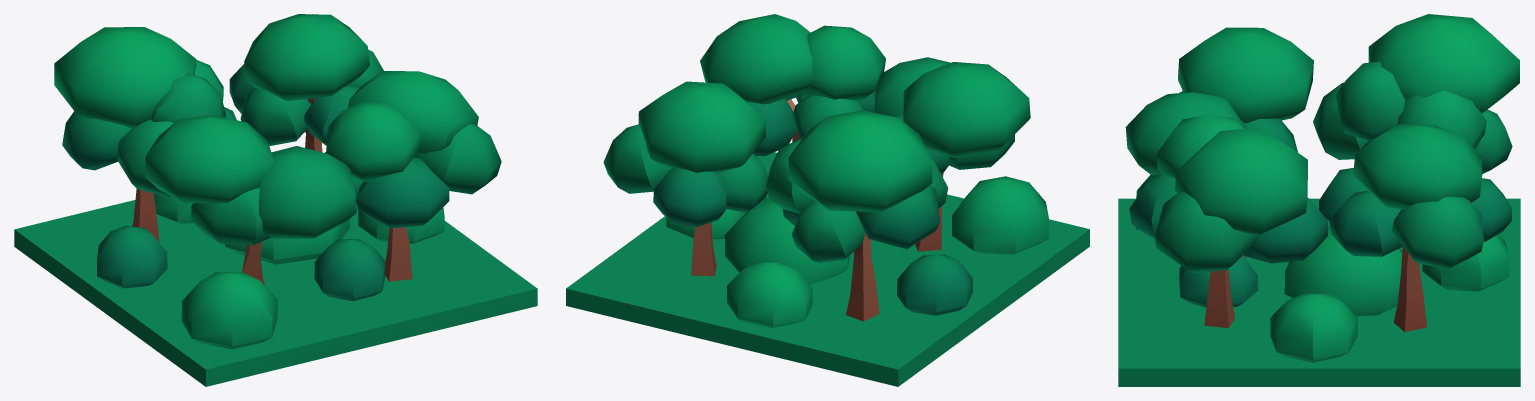
The model's file is park_base_decorated_trees.glb.
The picture shows the model from 3 angles, left to right: view 1: azimuth 30°, elevation 25°; view 2: azimuth 150°, elevation 25°; view 3: azimuth 270°, elevation 25°; orthographic projection. The views are drawn at different scales.
Parts seen in each view (by area): view 1: park_base_decorated_trees; view 2: park_base_decorated_trees; view 3: park_base_decorated_trees.
Part boxes in pixels (x1,y1,x2,y2): park_base_decorated_trees: (14,14,537,386); park_base_decorated_trees: (566,14,1089,386); park_base_decorated_trees: (1118,14,1520,386).
Bounding box in the file's own units: 2 × 1.28 × 2.
Materials: 1 (1 with a texture image).
